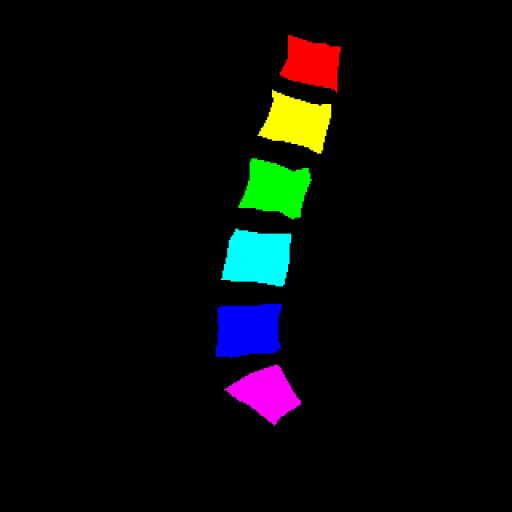L1: (280, 35, 341, 92)
L2: (258, 90, 331, 154)
L3: (239, 158, 311, 218)
L4: (221, 229, 291, 286)
L5: (216, 304, 281, 357)
S1: (224, 365, 301, 424)
